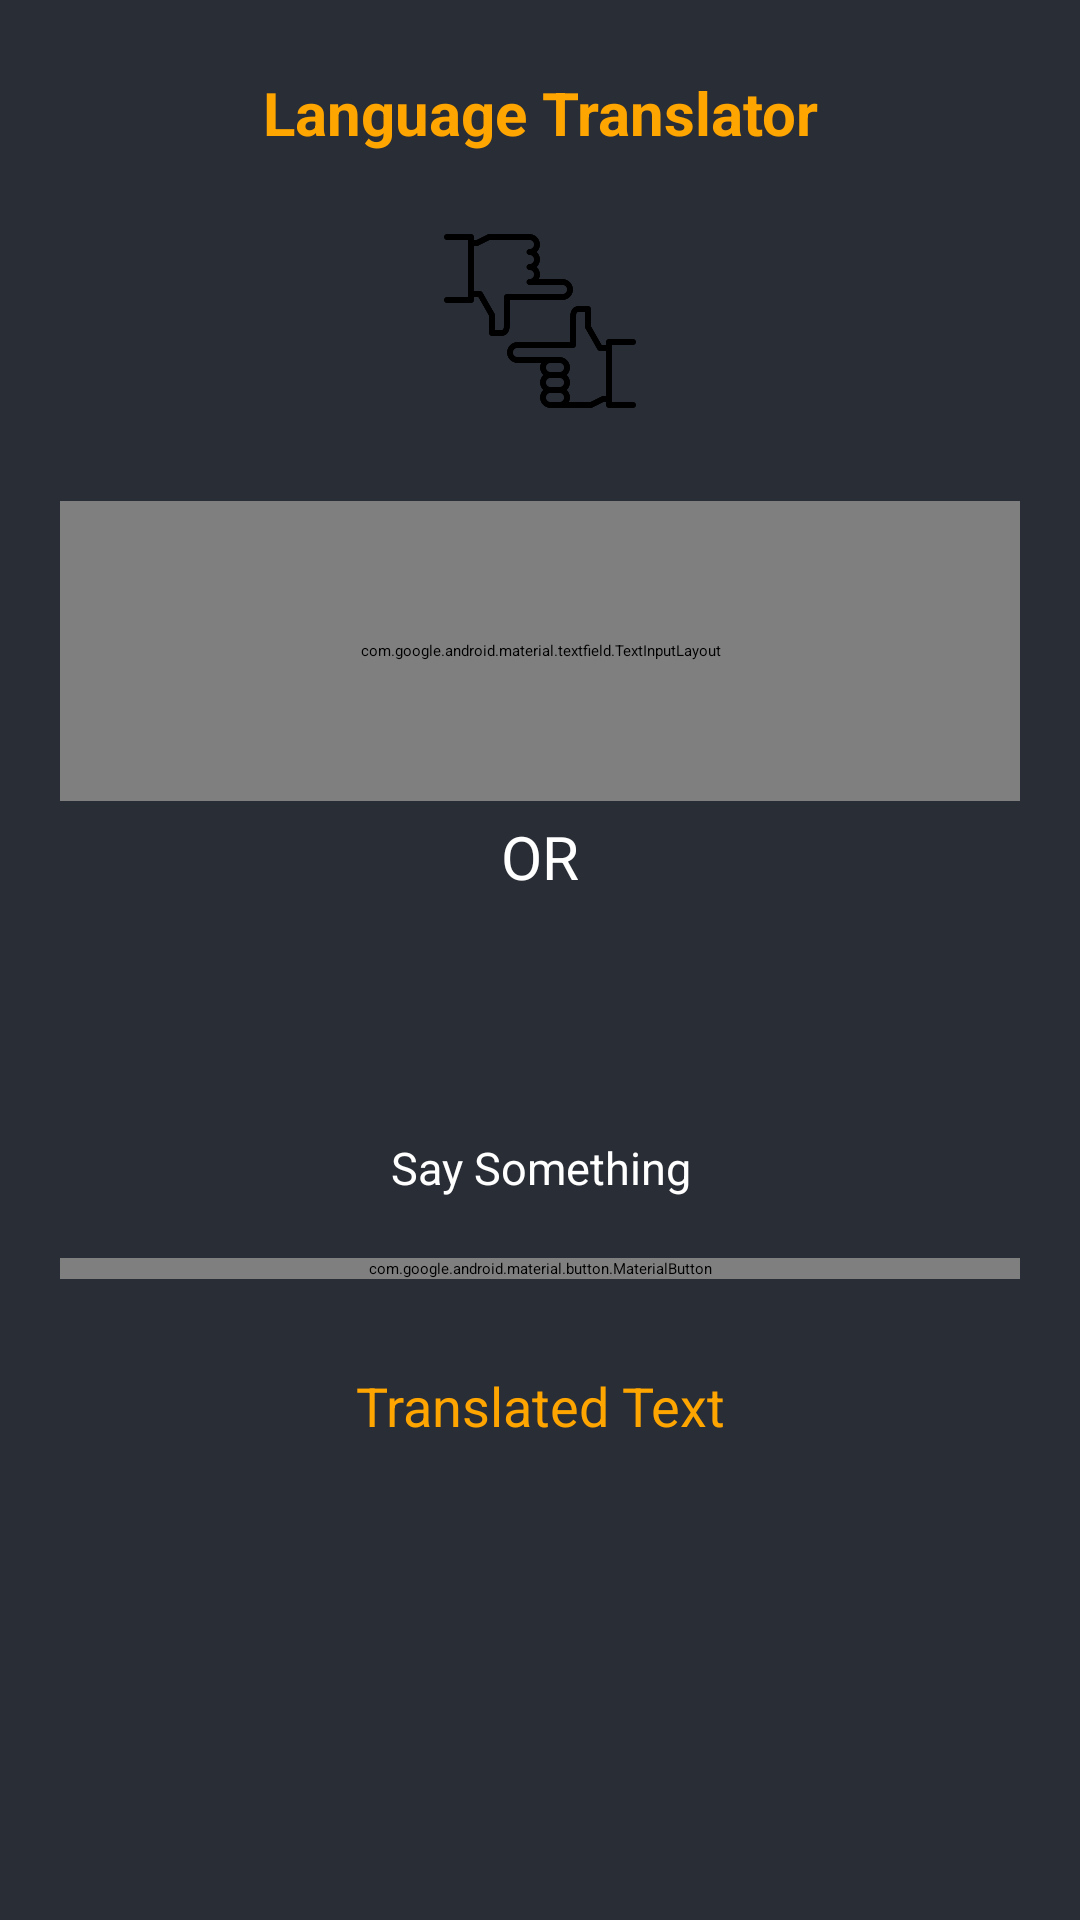

Where to tap for icons on this 1080w x 1920h app screen, as [x,y]:
framing: [540,321]
